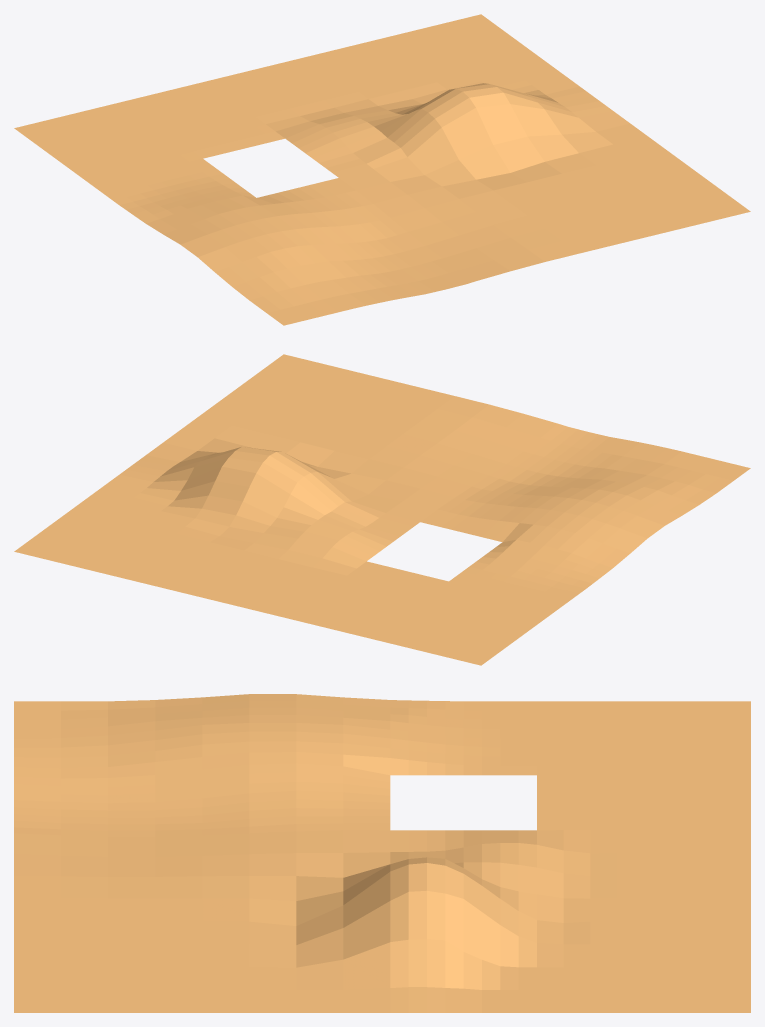
File: TutorialDeco_Outdoors.fbx
3 renders of one model, top to bottom at view 1: azimuth 30°, elevation 25°; view 2: azimuth 150°, elevation 25°; view 3: azimuth 270°, elevation 25°, orthographic. The views are drawn at different scales.
Visible parts, largest first — view 1: Deco_Sand; view 2: Deco_Sand; view 3: Deco_Sand.
Part boxes in pixels (box(x1,y1,x2,y2)): Deco_Sand: box(14, 14, 750, 325); Deco_Sand: box(14, 354, 750, 665); Deco_Sand: box(14, 694, 750, 1012).
Bounding box in the file's own units: 10000 × 997 × 10000.
1 material, 1 textured.
